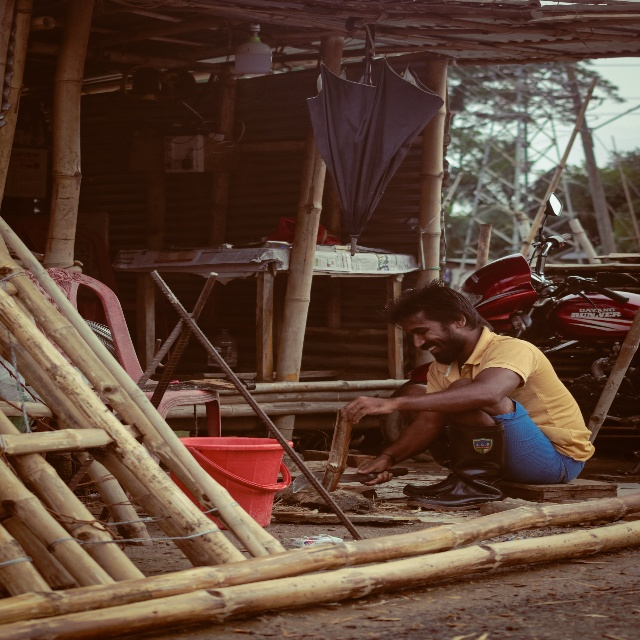Sin_guantes: (339, 394, 395, 423), (356, 453, 393, 487)
